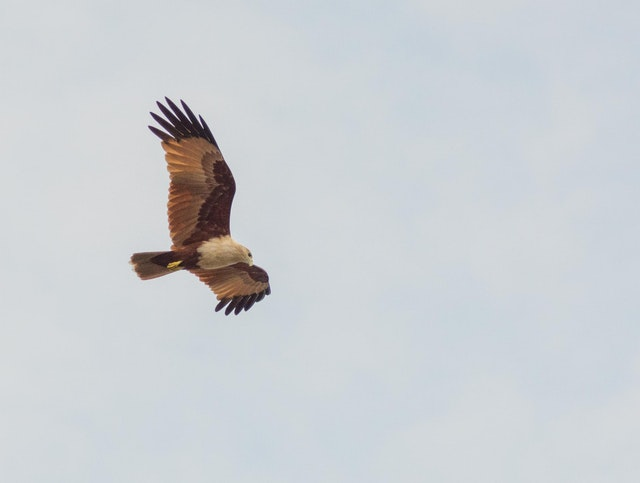bird: (129, 95, 271, 316)
